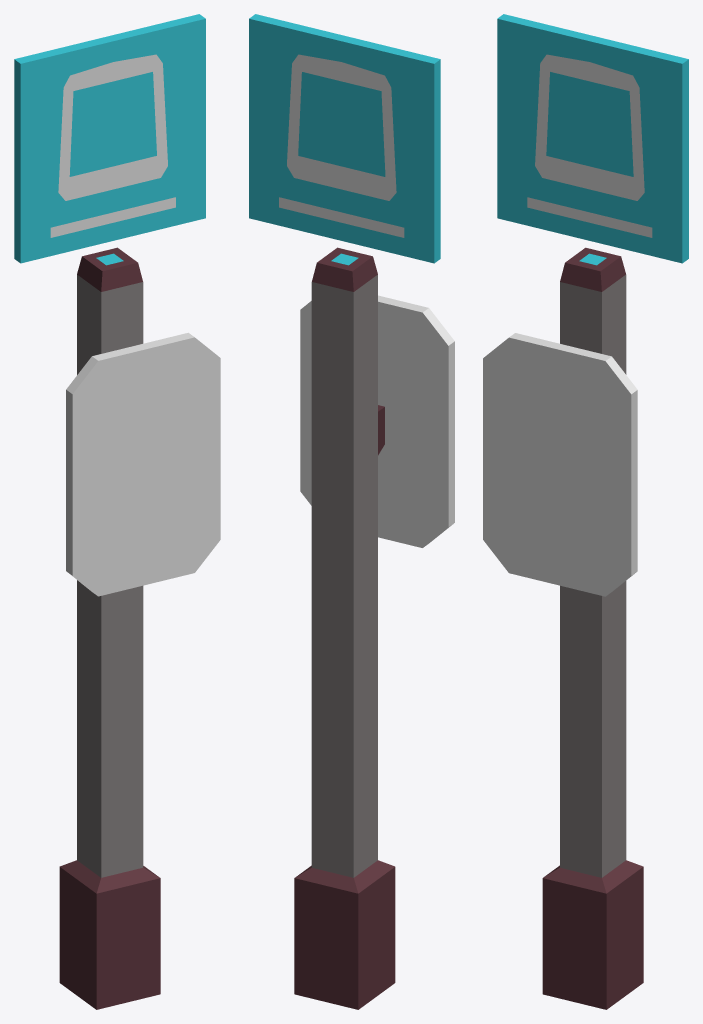
File: scifi-bus-stop-sign.fbx
3 renders of one model, left to right at view 1: azimuth 30°, elevation 25°; view 2: azimuth 150°, elevation 25°; view 3: azimuth 330°, elevation 25°, orthographic.
Parts seen in each view (by area): view 1: scifi-bus-stop-sign; view 2: scifi-bus-stop-sign; view 3: scifi-bus-stop-sign.
Part boxes in pixels (x1,y1,x2,y2): scifi-bus-stop-sign: (14,14,220,1009); scifi-bus-stop-sign: (249,14,454,1009); scifi-bus-stop-sign: (483,14,688,1009).
Size of the model in its own units: 0.5002 by 2.45 by 0.256.
